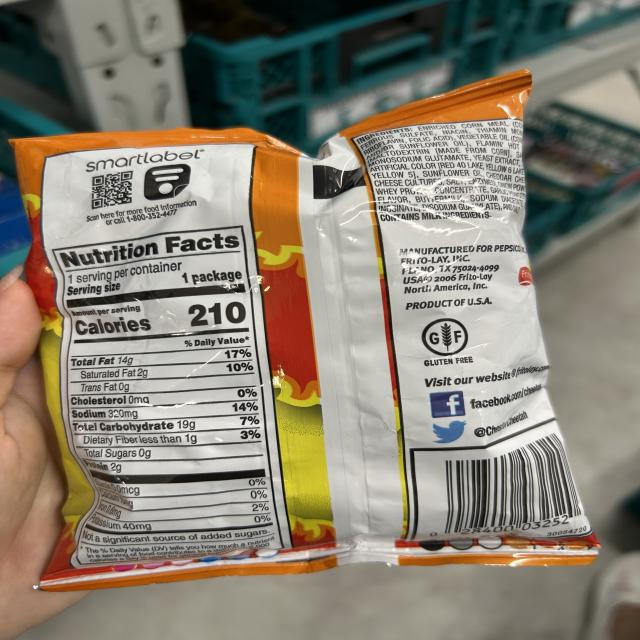object_name: (32, 140, 561, 561)
